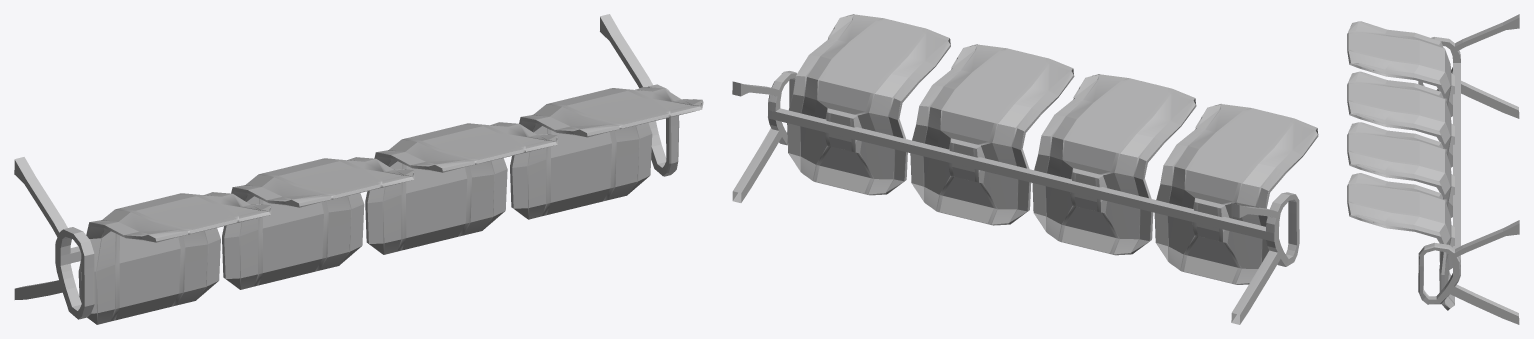
Rendered from SM_Prop_OutsideChair.fbx.
The picture shows the model from 3 angles, left to right: view 1: azimuth 30°, elevation 25°; view 2: azimuth 150°, elevation 25°; view 3: azimuth 270°, elevation 25°; orthographic projection. The views are drawn at different scales.
Parts seen in each view (by area): view 1: Cube; view 2: Cube; view 3: Cube.
Boxes of the visible parts, x1=… form: Cube: x1=14, y1=14, x2=703, y2=324; Cube: x1=732, y1=14, x2=1318, y2=324; Cube: x1=1347, y1=14, x2=1519, y2=324.
Size of the model in its own units: 2.97 by 0.6777 by 1.03.
2 materials, 2 textured.
